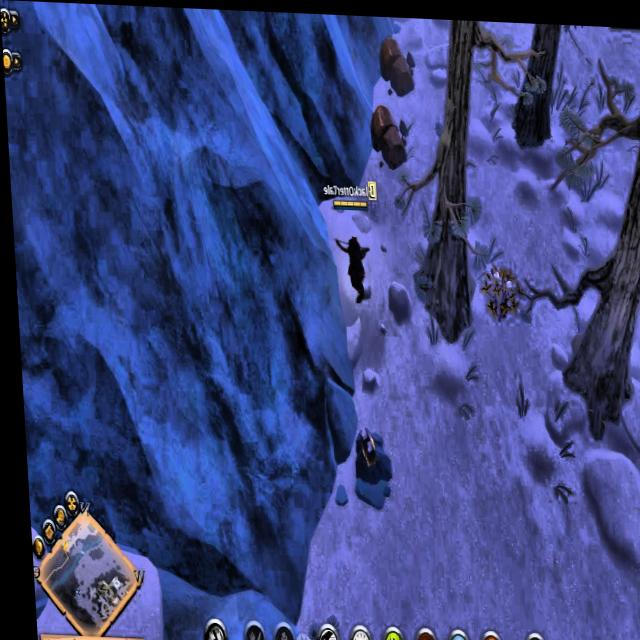copperore: (344, 415, 387, 496)
limestone: (365, 96, 408, 164), (376, 27, 415, 94)
